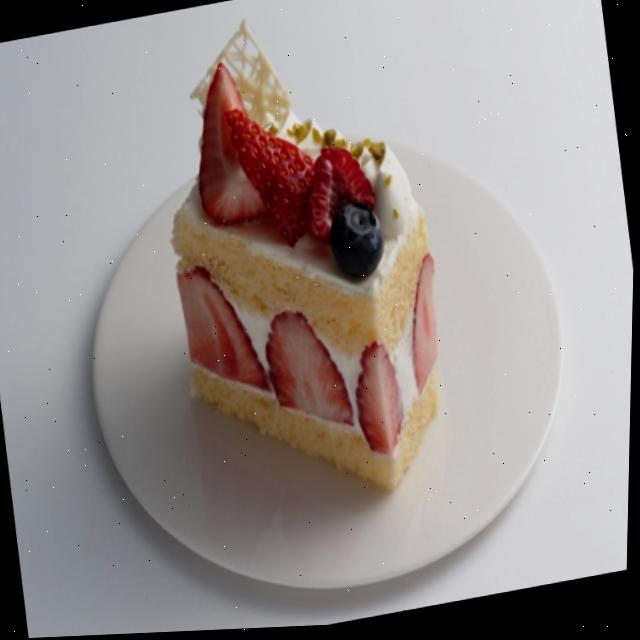蛋糕甜品: (111, 0, 488, 545)
